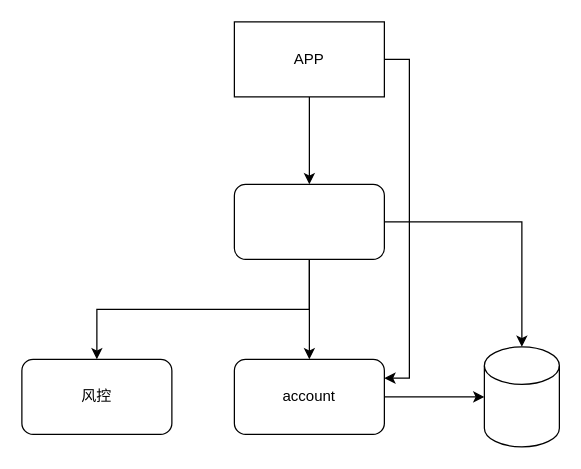
The diagram is 581 pixels wide and 469 high, and some of its shapes have lost their labels. The shapes that lost their labels are listed below. From the top down, each one's centre as x and y in pixels, then its label:
At pixel 308 221: "user".
At pixel 521 396: "mq".
